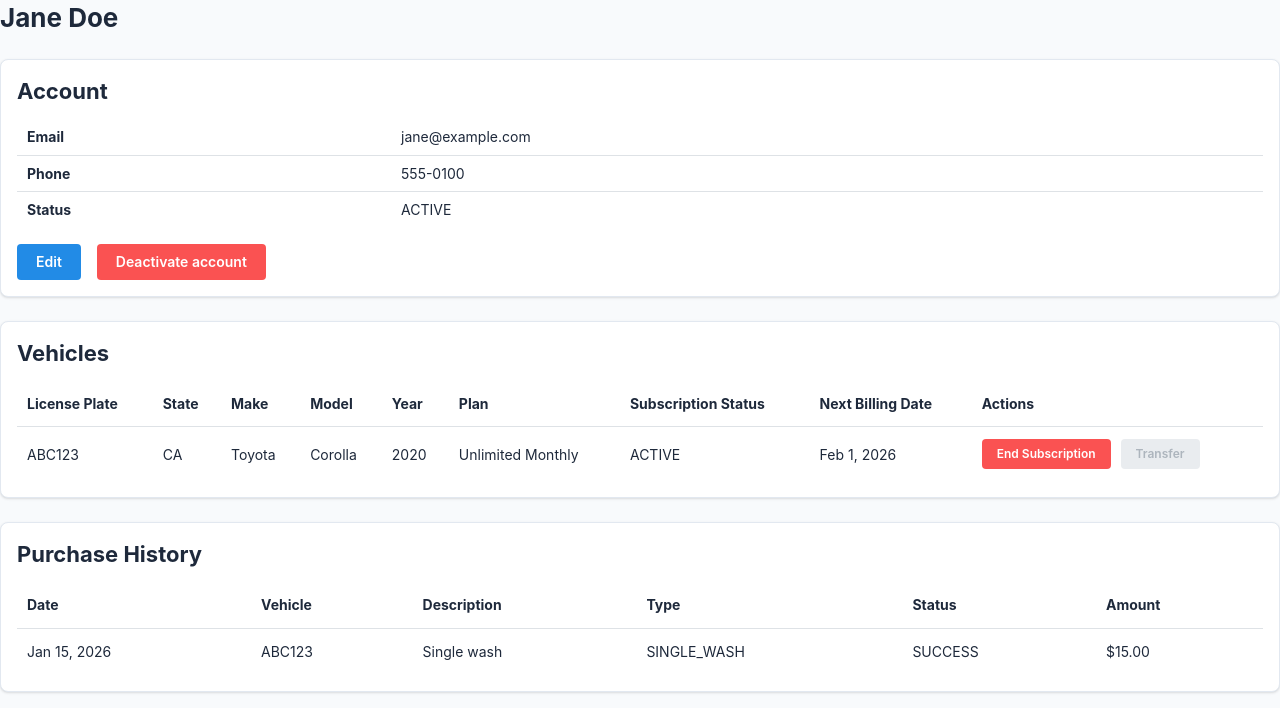
Test: UserProperties › editing account information › exits edit mode and shows the updated values after a successful save
The image size is (1280, 708).
Check: the heading "Jane Doe" is shown, box [0,2,118,33]
Click the button "Edit". click: (49, 262)
box: [17,244,81,280]
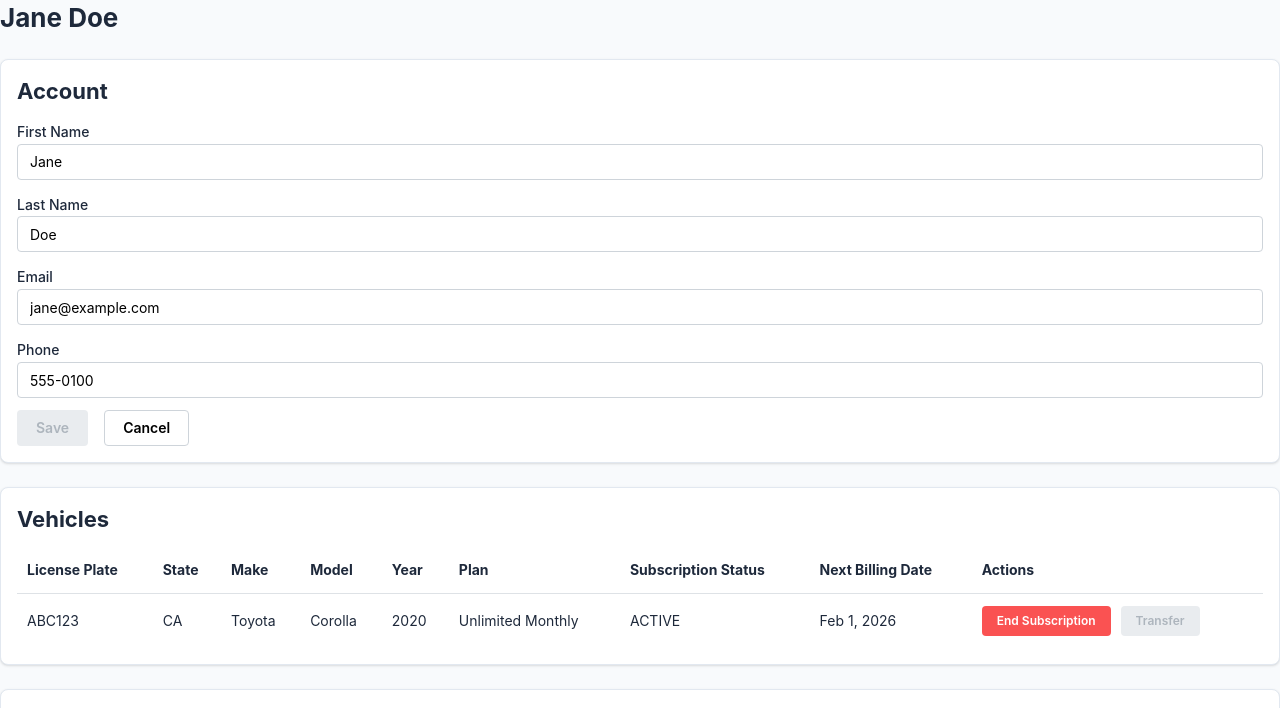
Replace the text in the field labelled "First Name" with "Janet". click: (640, 162)
box: [17,144,1263,180]
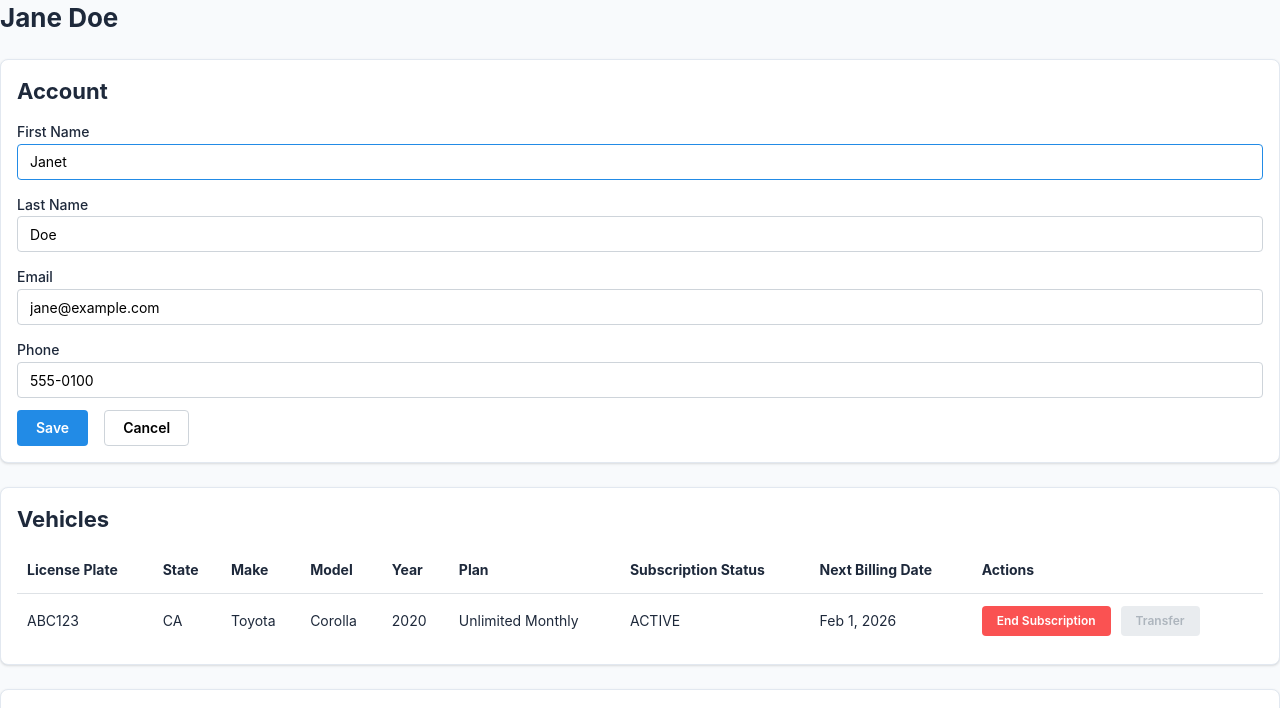
Click the button "Save". click: (53, 428)
box: [17,410,88,446]
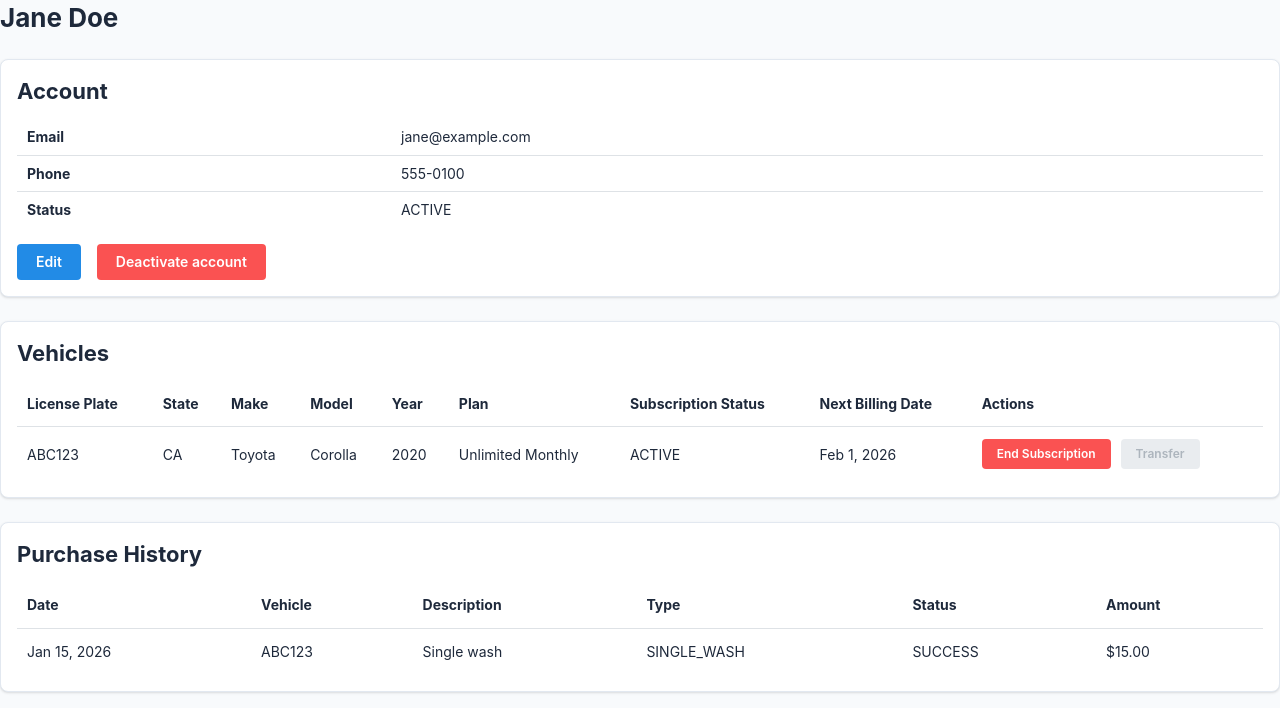
Check: the label labelled "First Name" is gone
Check: the button "Edit" is shown, box [17,244,81,280]
